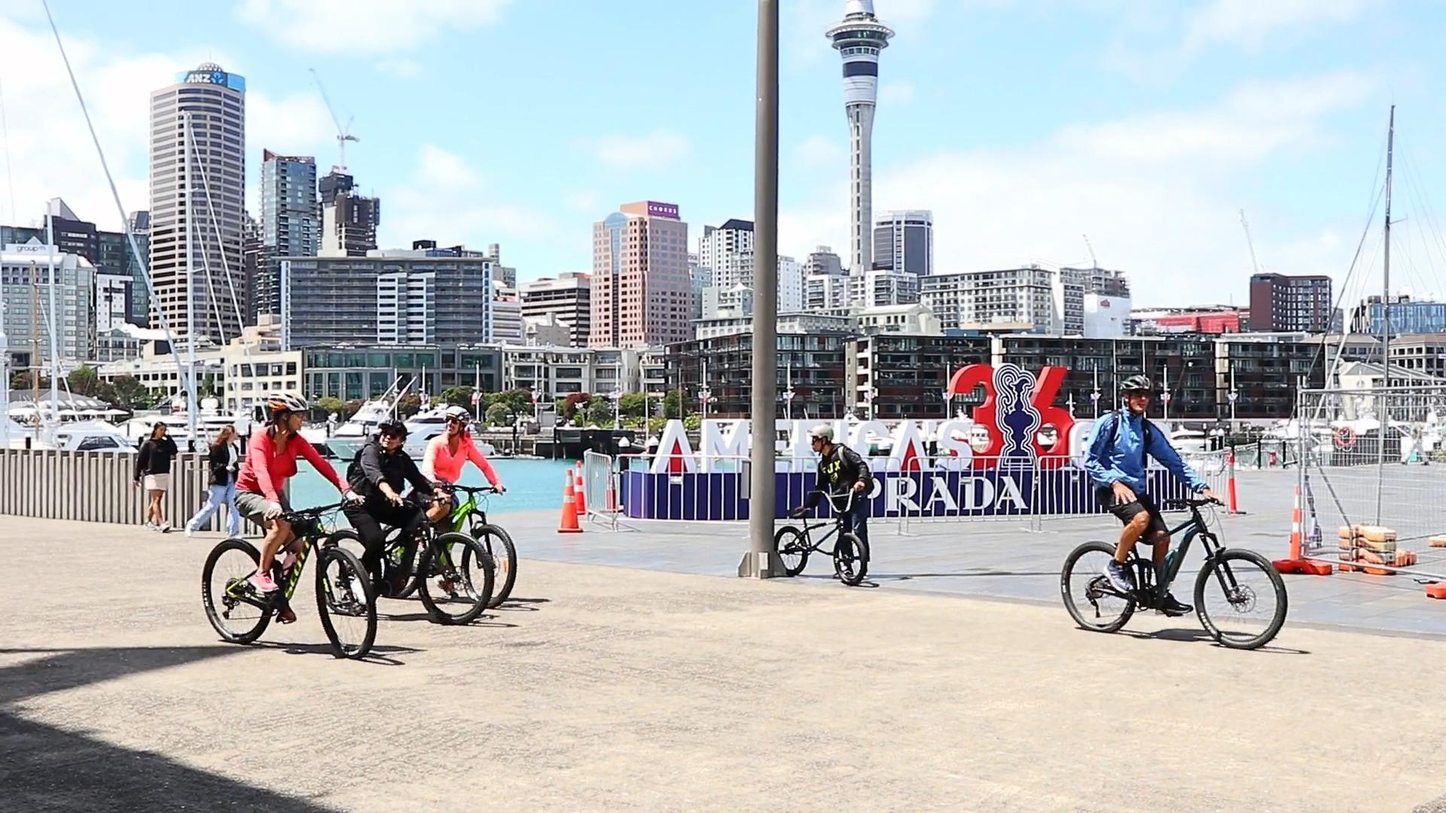bicyclist: (1061, 375, 1288, 650), (202, 388, 377, 660), (318, 417, 495, 626), (380, 405, 516, 608)
helmet: (267, 388, 310, 433), (1119, 375, 1154, 418), (378, 418, 408, 452), (445, 405, 470, 438), (811, 424, 833, 456)
